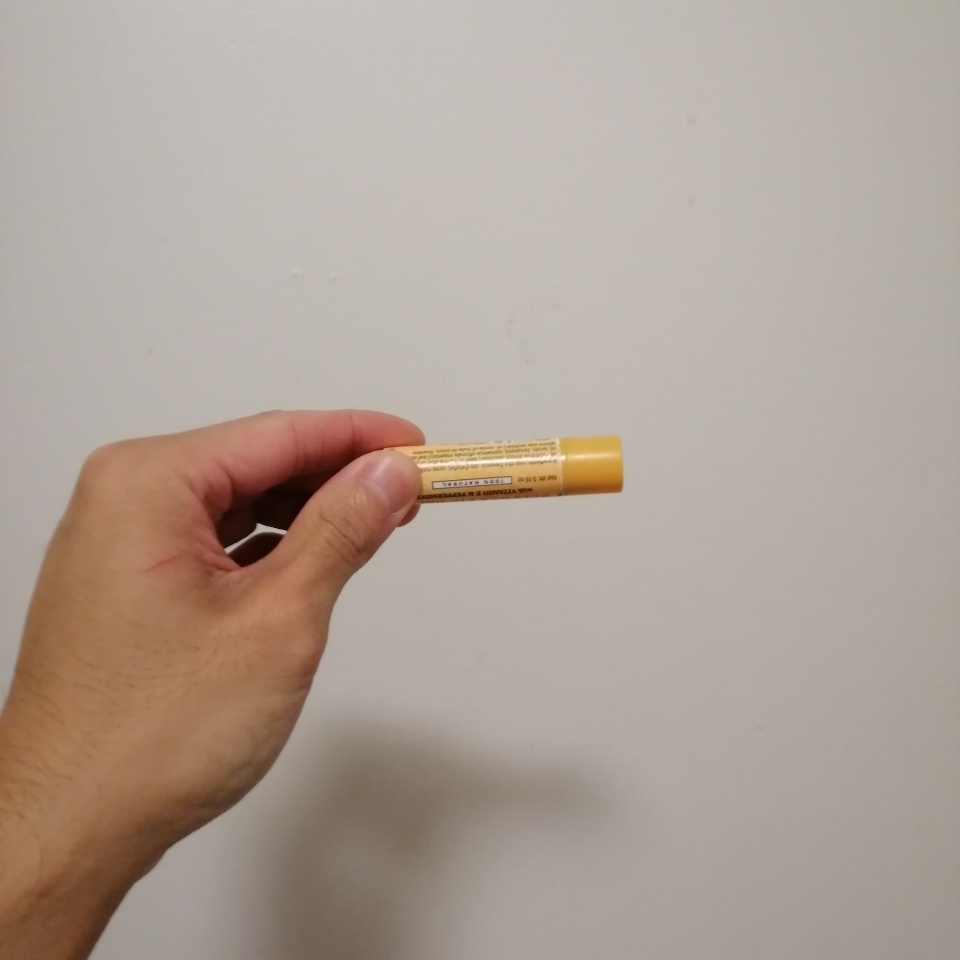chapstick: (384, 433, 624, 504)
